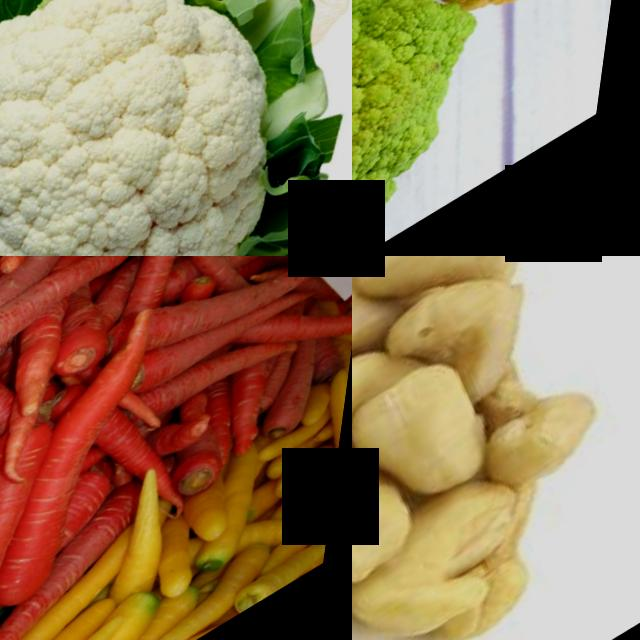carrot: (0, 256, 131, 444), (127, 322, 303, 454), (139, 256, 311, 375), (0, 447, 114, 618), (100, 474, 209, 606), (144, 383, 257, 481), (0, 371, 24, 478)
cashew: (352, 347, 517, 531), (388, 256, 544, 395), (352, 416, 449, 628), (393, 474, 545, 603), (352, 256, 541, 327)
cauliflower: (0, 0, 352, 256), (352, 0, 521, 256), (352, 0, 640, 58)
